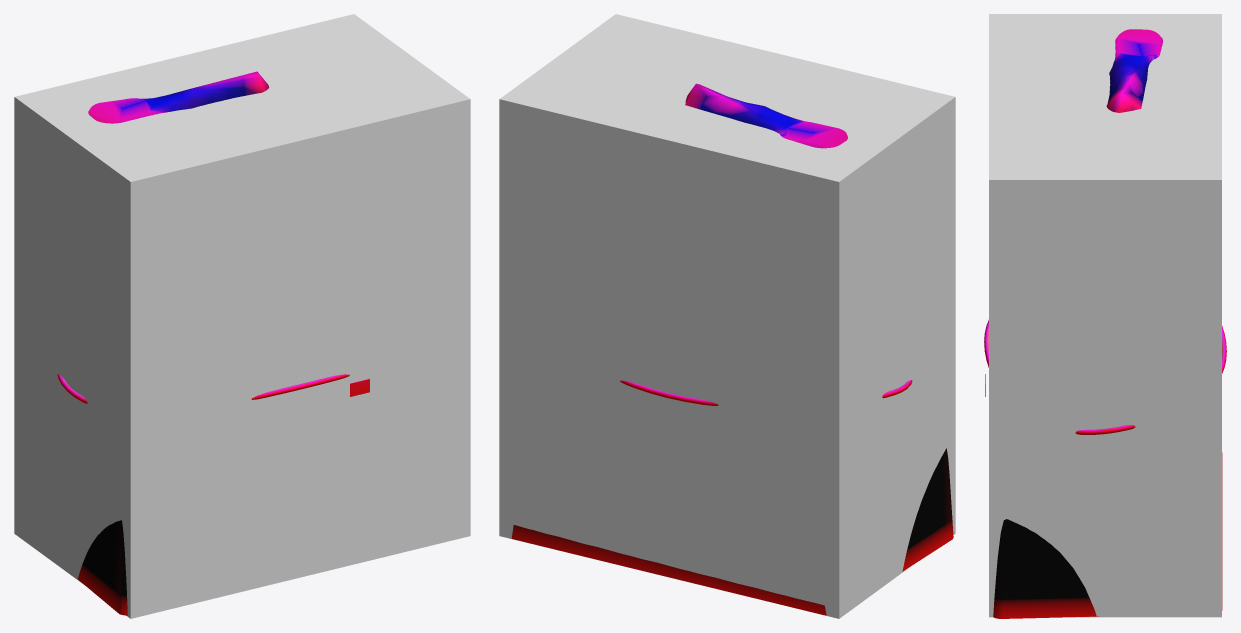
Rendered from prop_saw_teaser.fbx.
3 renders of one model, left to right at view 1: azimuth 30°, elevation 25°; view 2: azimuth 150°, elevation 25°; view 3: azimuth 270°, elevation 25°, orthographic.
Parts seen in each view (by area): view 1: COL_0, prop_saw_teaser; view 2: COL_0, prop_saw_teaser; view 3: COL_0, prop_saw_teaser.
Boxes of the visible parts, bbox=[...] form: COL_0: bbox=[14, 14, 470, 618]; prop_saw_teaser: bbox=[57, 71, 369, 615]; COL_0: bbox=[499, 14, 955, 618]; prop_saw_teaser: bbox=[511, 83, 953, 615]; COL_0: bbox=[989, 14, 1221, 617]; prop_saw_teaser: bbox=[984, 29, 1226, 618].
Size of the model in its own units: 1.22 by 1.5 by 0.7293.
